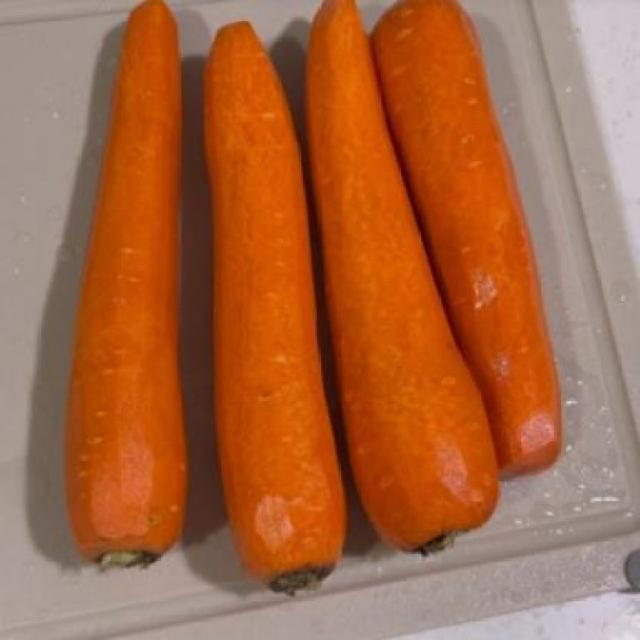carrot: (298, 6, 500, 565), (370, 3, 567, 488), (194, 20, 351, 608), (51, 0, 192, 569)
